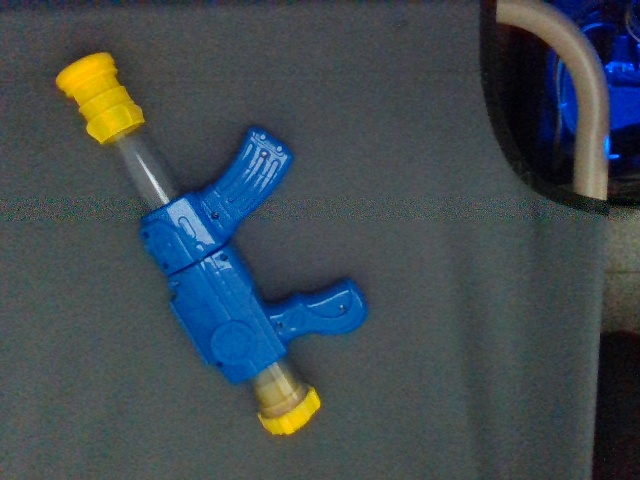screw hole: (210, 211, 220, 221), (170, 280, 181, 288), (260, 150, 269, 158), (162, 262, 170, 270), (215, 362, 224, 369), (143, 231, 150, 239), (220, 254, 228, 261), (277, 321, 283, 330), (339, 304, 347, 310)
toy: (56, 50, 368, 436)
